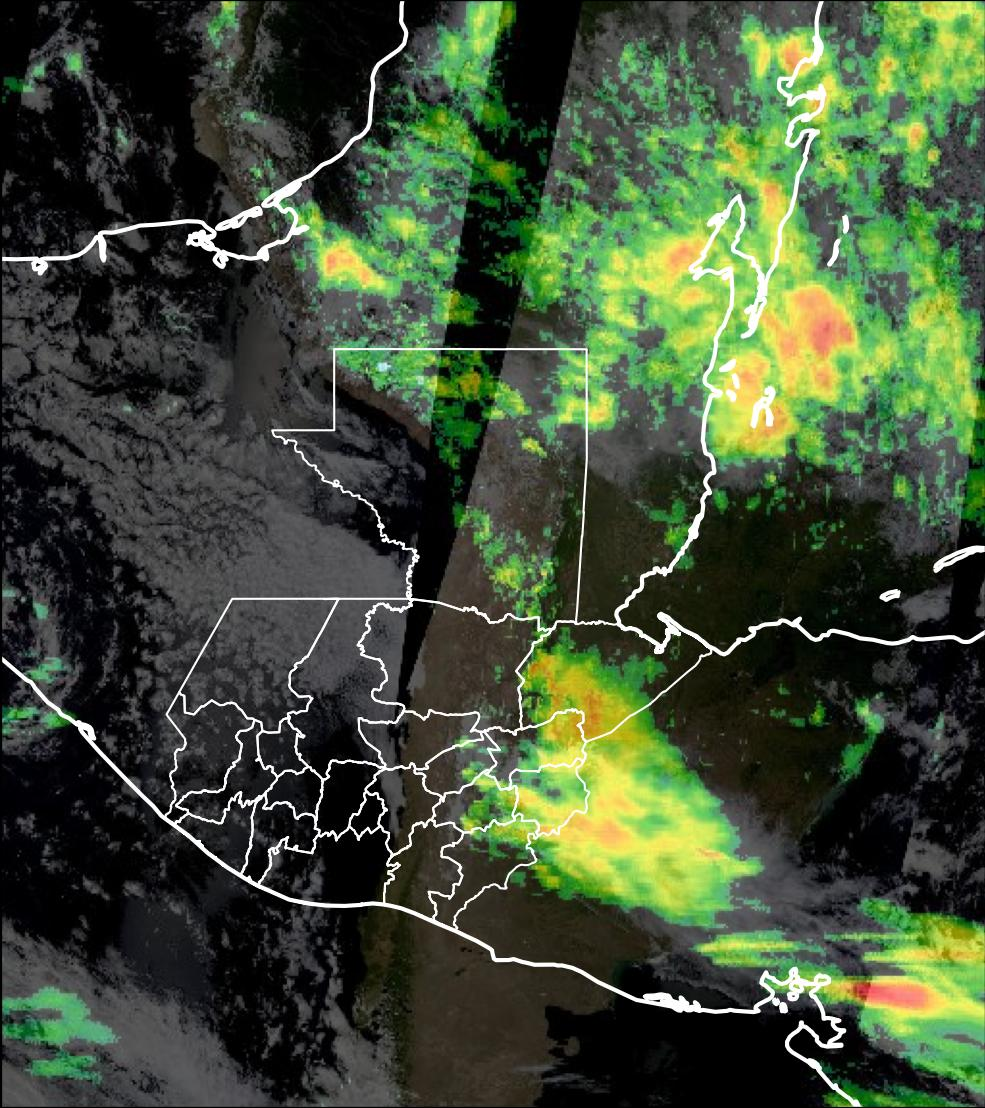precipitacion: (771, 282, 840, 407), (843, 966, 939, 1019), (319, 241, 387, 298)
